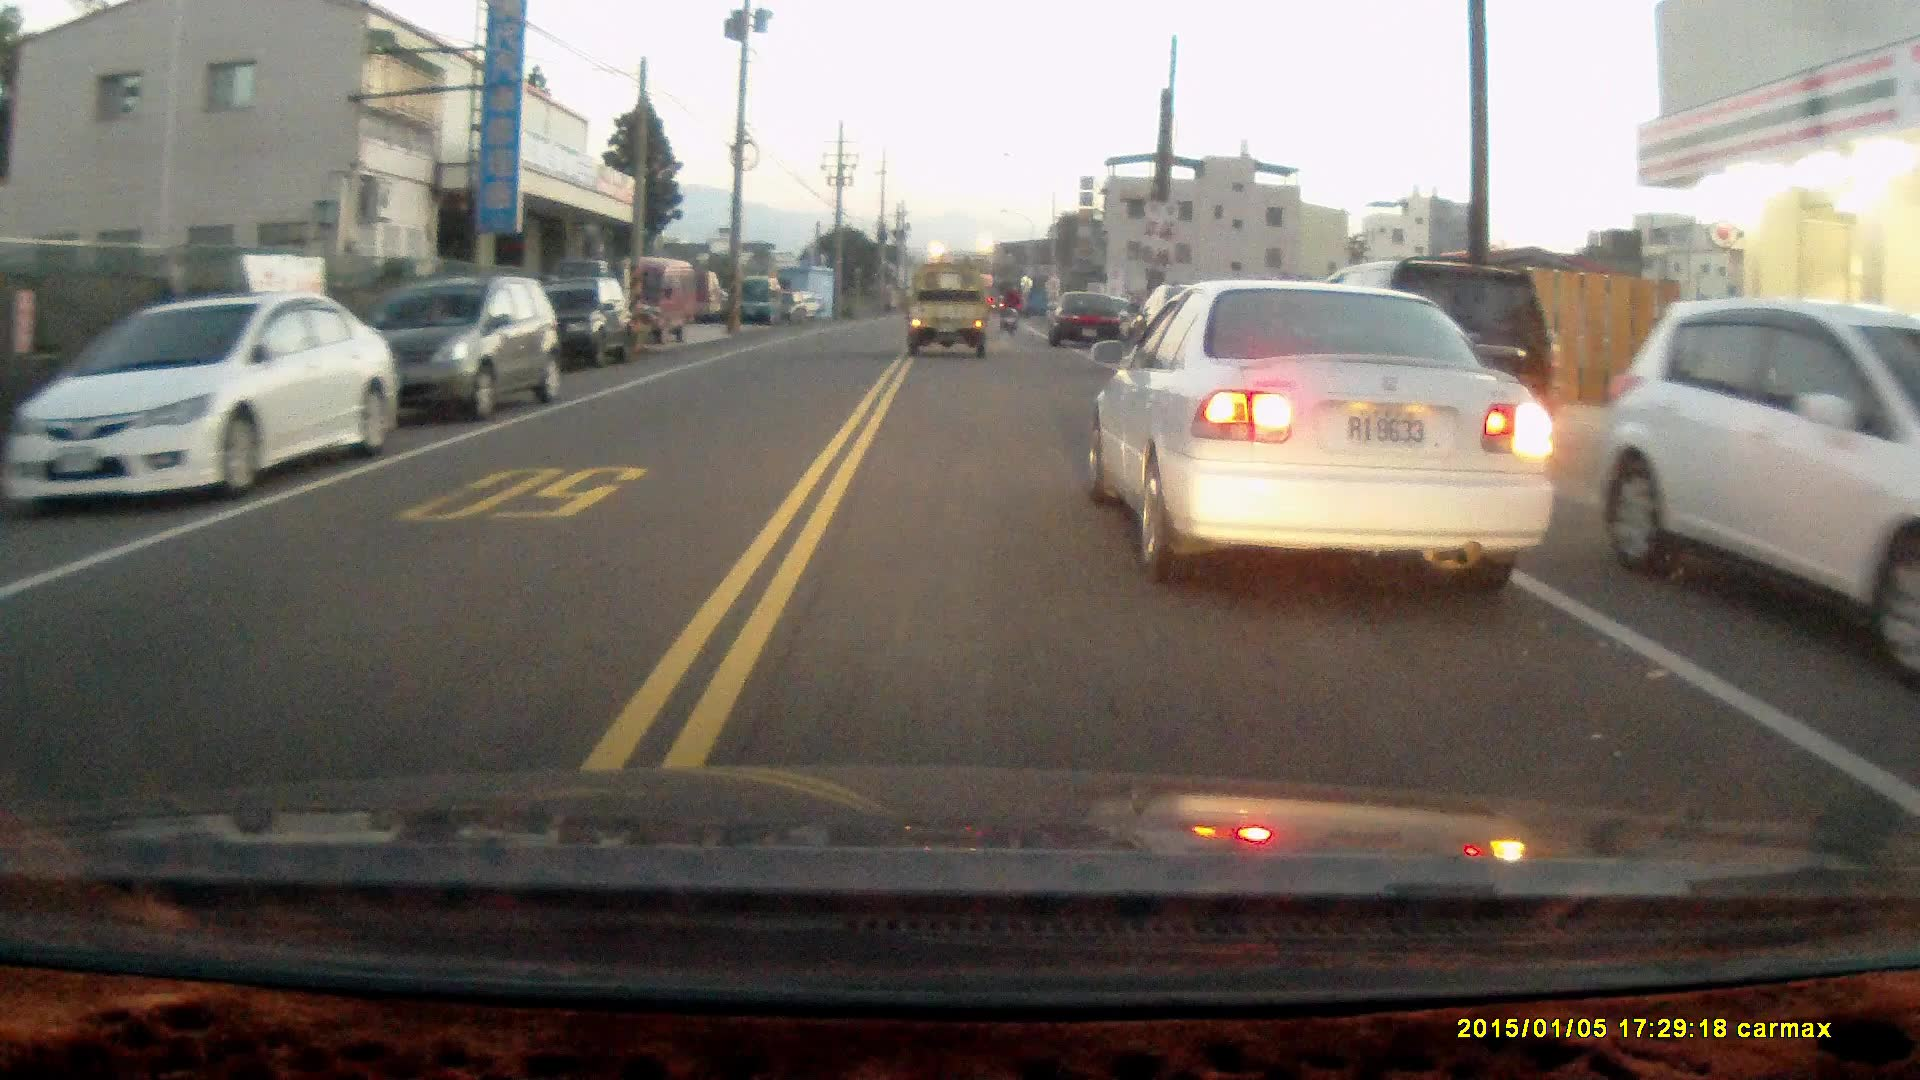rider: (998, 282, 1025, 330)
vehicle: (1081, 274, 1551, 579), (1604, 299, 1920, 668), (15, 288, 403, 511), (1316, 258, 1557, 480), (338, 272, 561, 420), (603, 256, 709, 344), (904, 264, 994, 366), (544, 278, 636, 370), (1052, 289, 1132, 348)
